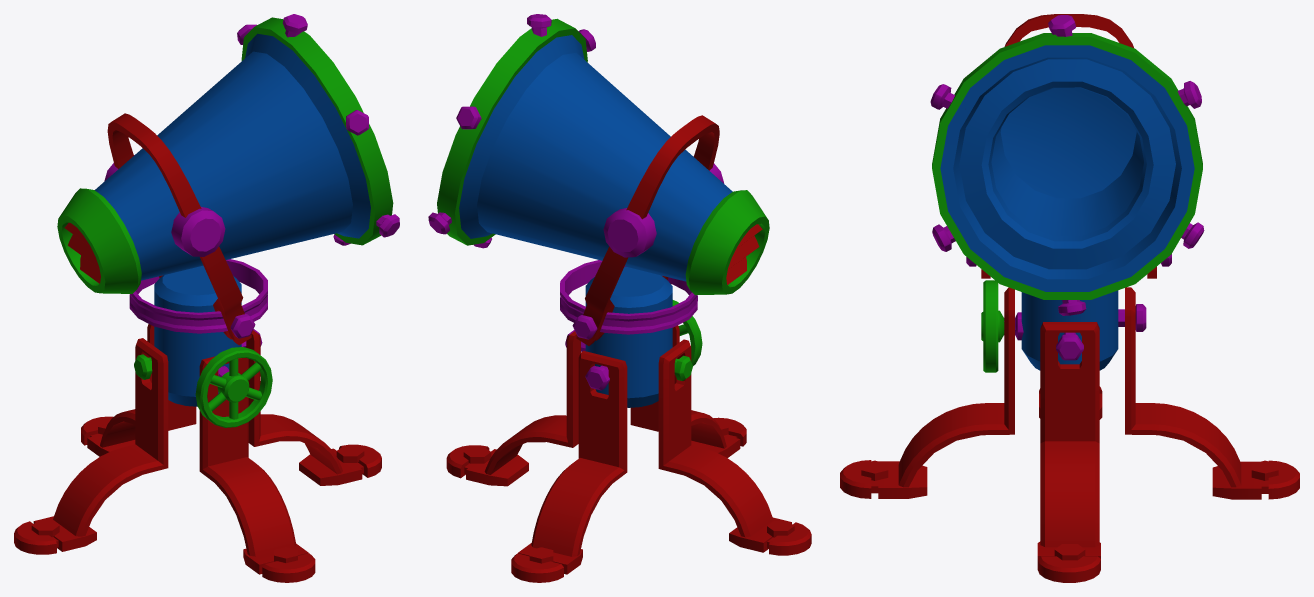
The picture shows the model from 3 angles, left to right: view 1: azimuth 30°, elevation 25°; view 2: azimuth 150°, elevation 25°; view 3: azimuth 270°, elevation 25°; orthographic projection. The views are drawn at different scales.
Visible parts, largest first — view 1: Cylinder217; view 2: Cylinder217; view 3: Cylinder217.
Boxes of the visible parts, <box> form: Cylinder217: <box>14,14,399,582</box>; Cylinder217: <box>428,14,811,582</box>; Cylinder217: <box>840,14,1299,582</box>.
Size of the model in its own units: 8195 by 10204 by 8195.
